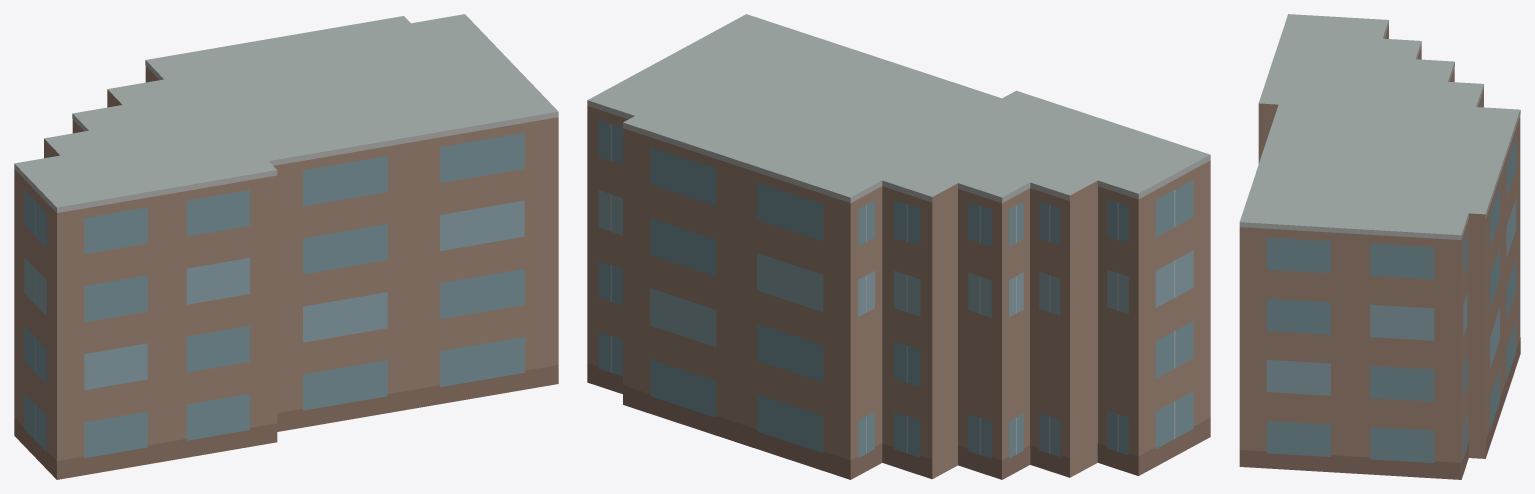
File: survey-upis-32731081.glb
The picture shows the model from 3 angles, left to right: view 1: azimuth 30°, elevation 25°; view 2: azimuth 150°, elevation 25°; view 3: azimuth 270°, elevation 25°; orthographic projection. The views are drawn at different scales.
Visible parts, largest first — view 1: survey-upis-32731081.tmp; view 2: survey-upis-32731081.tmp; view 3: survey-upis-32731081.tmp.
Boxes of the visible parts, x1,y1,x2,y2 form: survey-upis-32731081.tmp: (14,14,558,479); survey-upis-32731081.tmp: (587,14,1210,479); survey-upis-32731081.tmp: (1239,14,1520,479).
Size of the model in its own units: 23.68 by 12.2 by 12.71.
